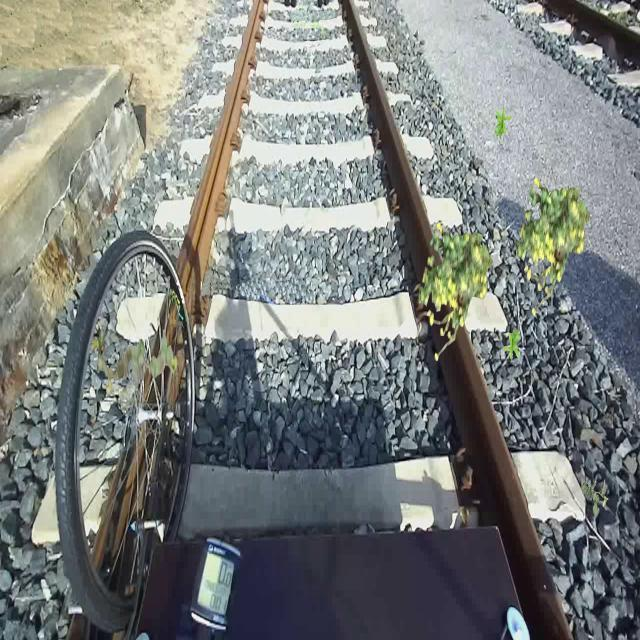Plant: (516, 177, 591, 317), (419, 222, 494, 362), (91, 327, 178, 396), (581, 476, 608, 517), (495, 107, 512, 139), (503, 329, 520, 361)
